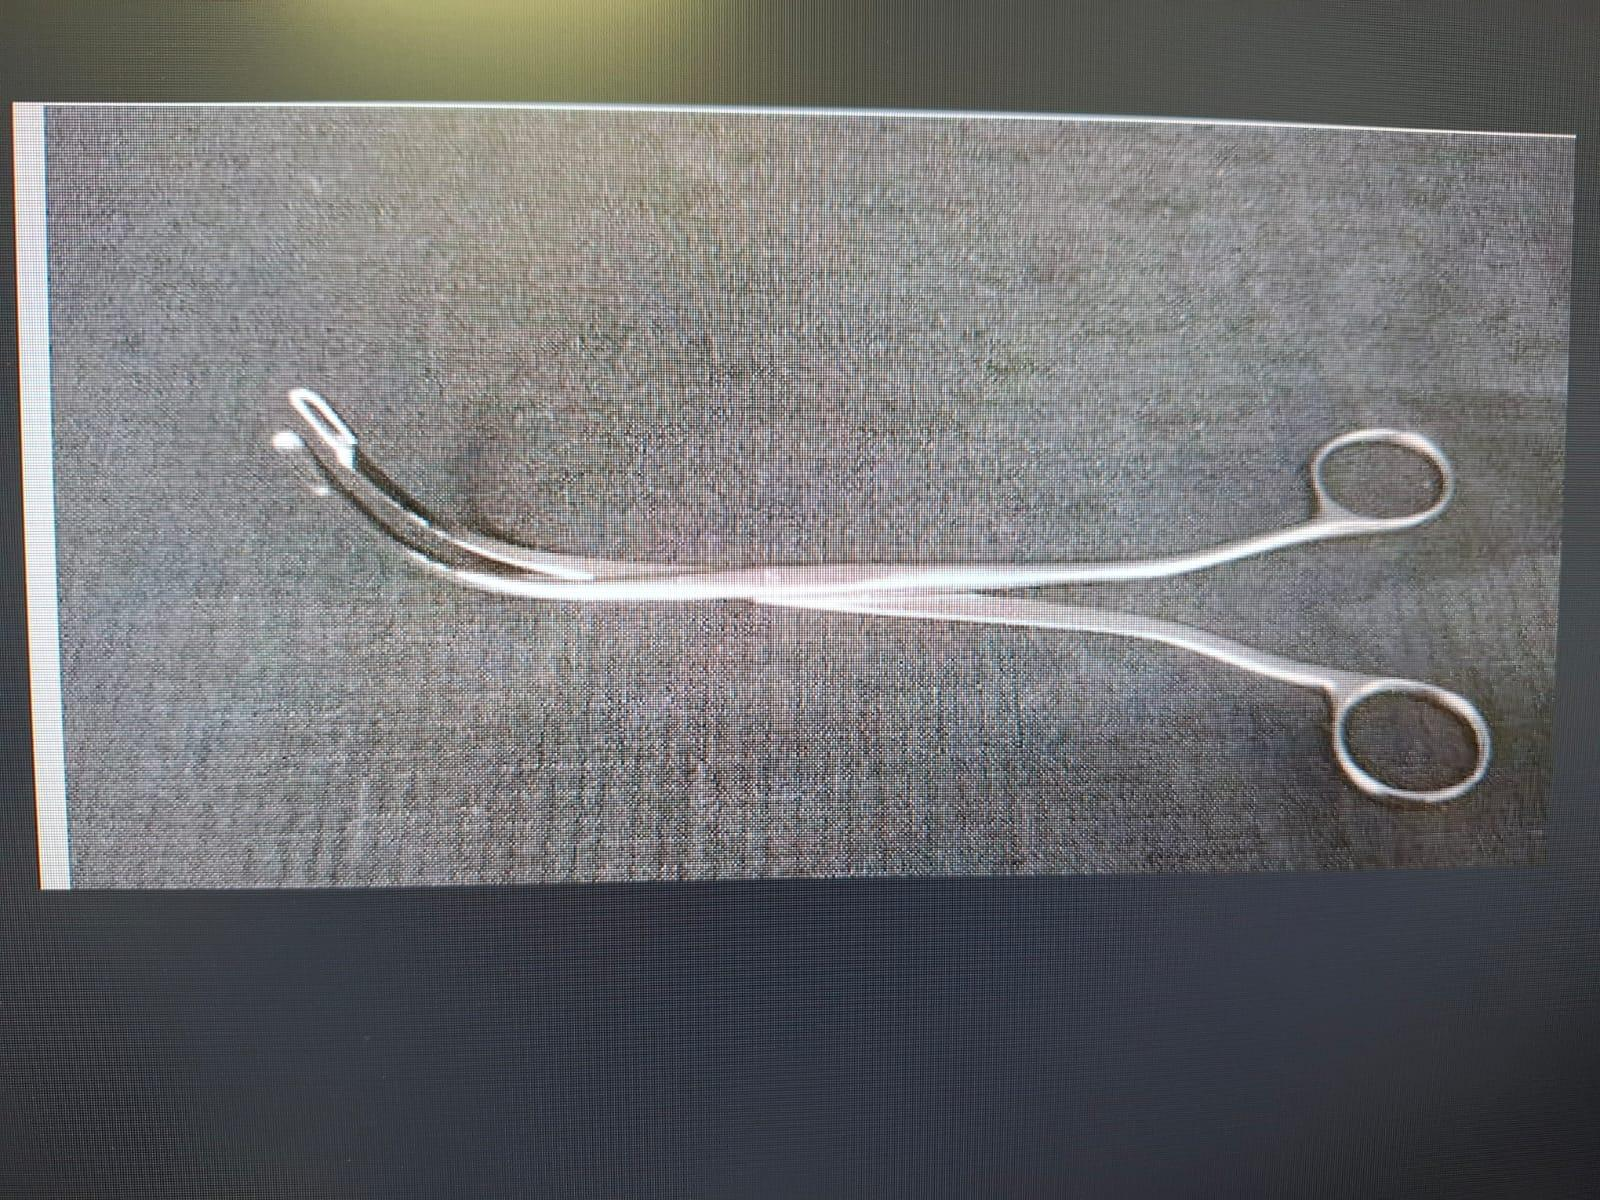Randall Forceps: (264, 356, 1512, 830)
